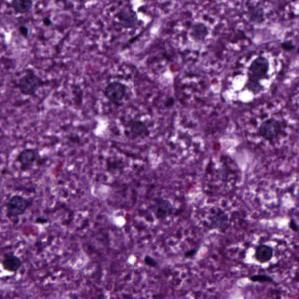inflammation: (255, 237, 278, 264)
